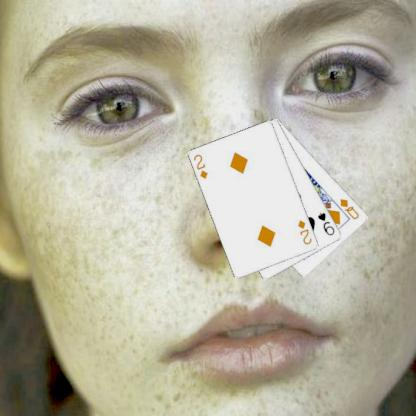2D: (296, 217, 314, 246), (191, 152, 209, 180)
9S: (315, 210, 336, 237)
QD: (337, 196, 360, 221)
